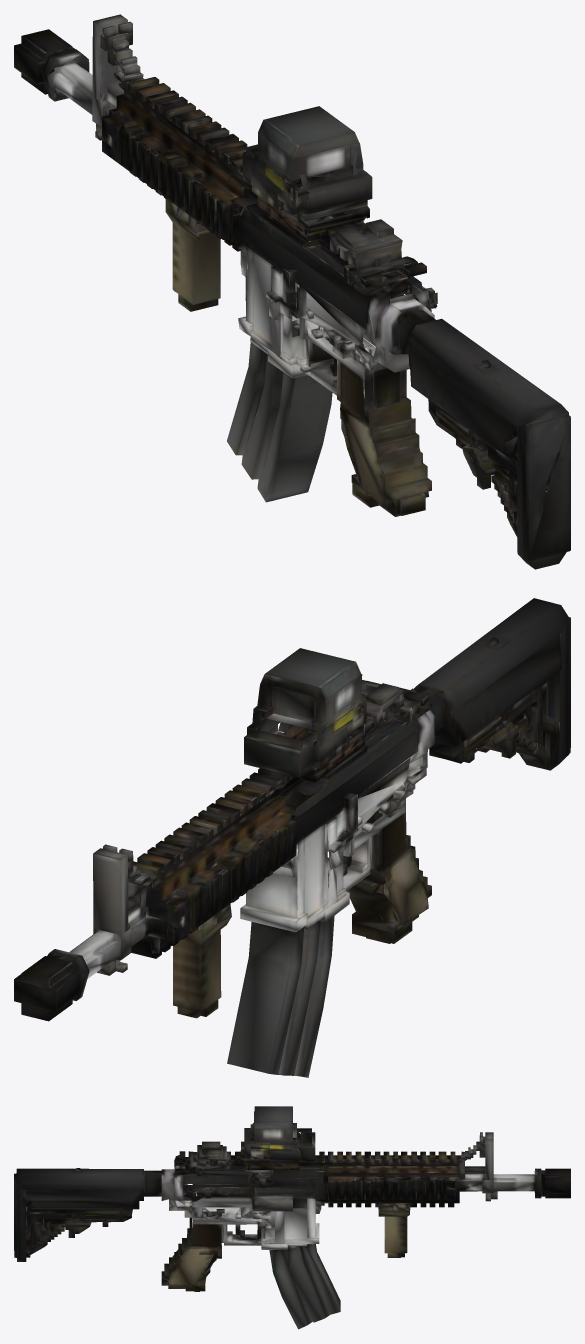
File: weapon-auto-rifle.glb
3 renders of one model, top to bottom at view 1: azimuth 30°, elevation 25°; view 2: azimuth 150°, elevation 25°; view 3: azimuth 270°, elevation 25°, orthographic. The views are drawn at different scales.
Visible parts, largest first — view 1: weapon-auto-rifle; view 2: weapon-auto-rifle; view 3: weapon-auto-rifle.
Part boxes in pixels (left/top/right/bottom): weapon-auto-rifle: left=14, top=14, right=570, bottom=569; weapon-auto-rifle: left=14, top=598, right=570, bottom=1077; weapon-auto-rifle: left=14, top=1106, right=570, bottom=1329.
Size of the model in its own units: 0.2318 by 0.9986 by 2.4.
Materials: 1 (1 with a texture image).
